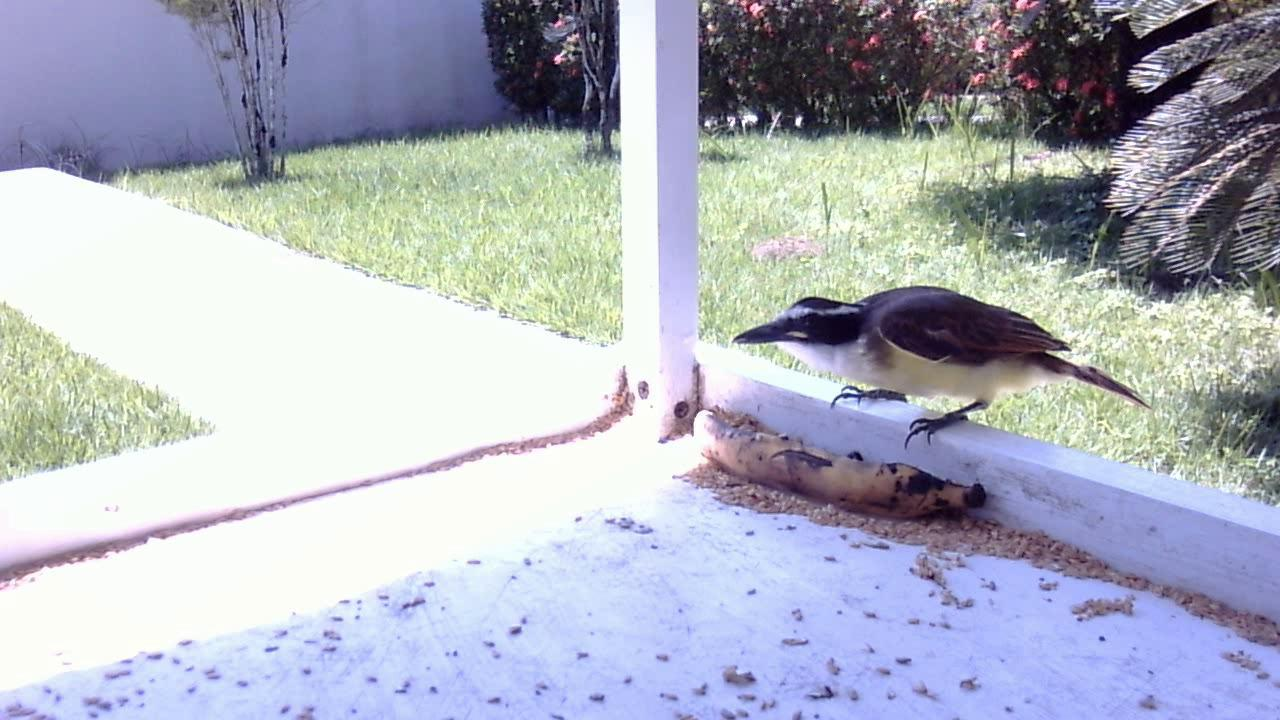bem_te_vi: (722, 275, 1158, 464)
